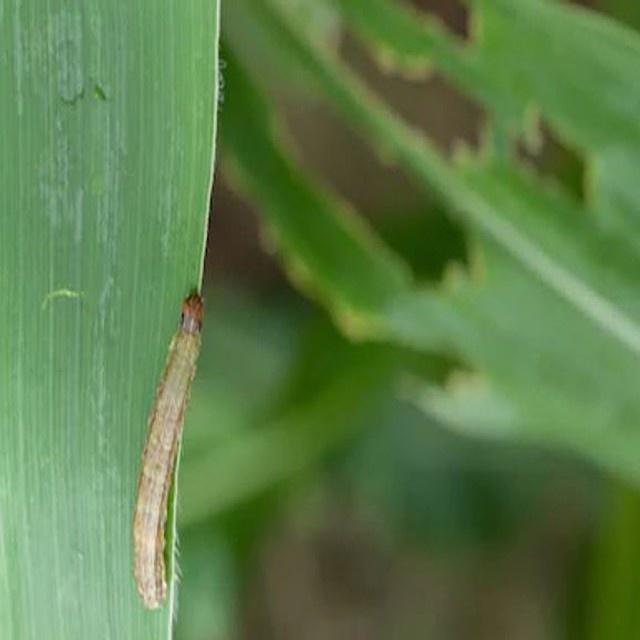Plaga: (125, 288, 212, 618)
